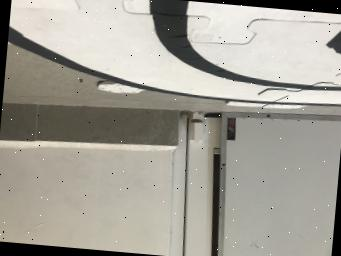street: (7, 0, 341, 108), (7, 0, 341, 108), (7, 0, 341, 108), (7, 0, 341, 108), (7, 0, 341, 108), (7, 0, 341, 108)
